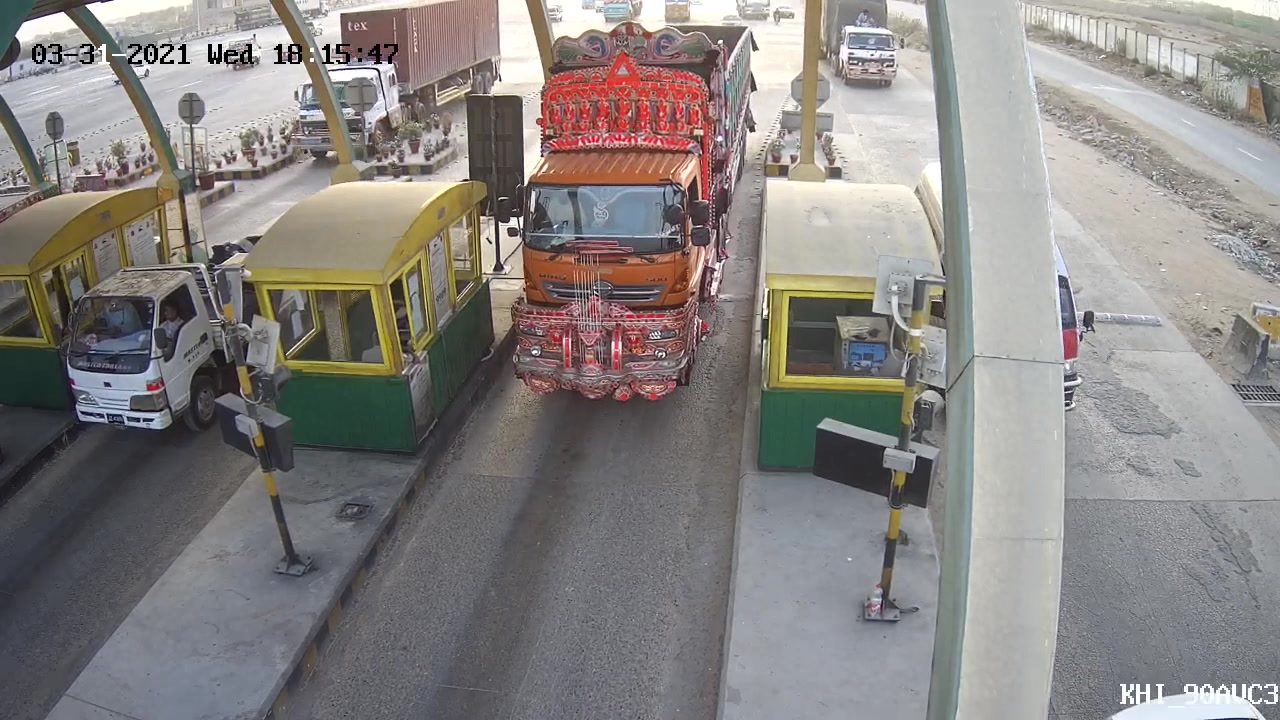F6: (505, 13, 763, 408)
